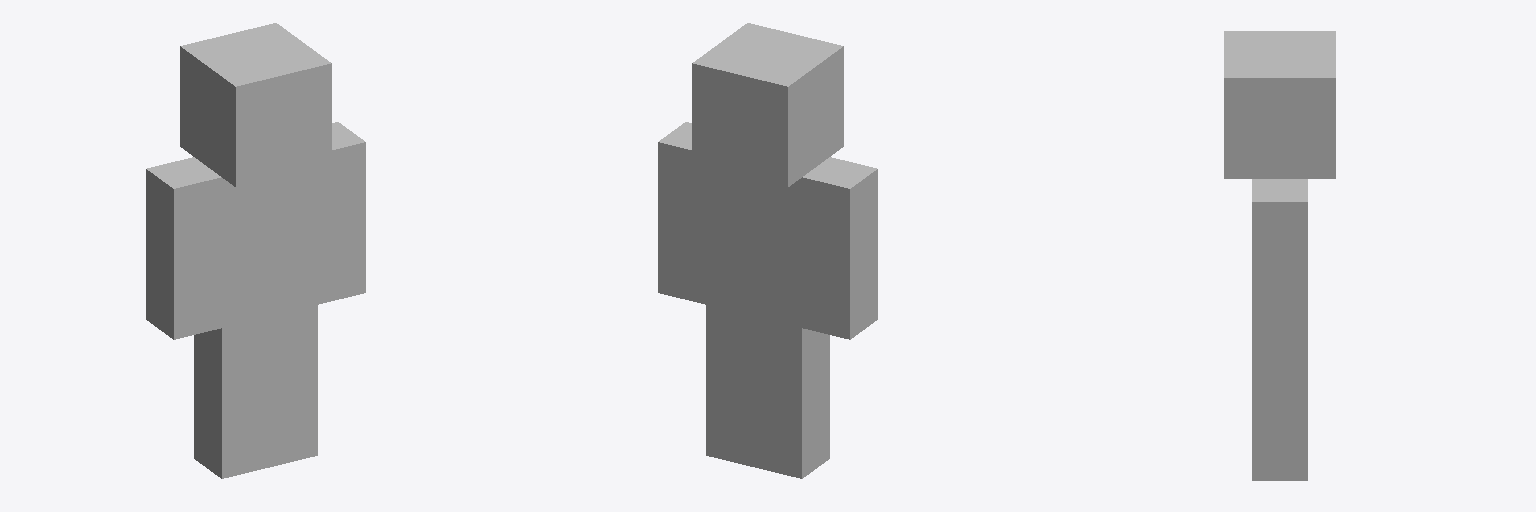
The model's file is playerPed.obj.
3 views of the same model, side by side, from view 1: azimuth 30°, elevation 25°; view 2: azimuth 150°, elevation 25°; view 3: azimuth 270°, elevation 25° (orthographic).
Visible parts, largest first — view 1: Cube_Cube.003; view 2: Cube_Cube.003; view 3: Cube_Cube.003.
Boxes of the visible parts, <box> form: Cube_Cube.003: <box>146,23,365,478</box>; Cube_Cube.003: <box>658,23,877,478</box>; Cube_Cube.003: <box>1224,31,1335,480</box>.
Size of the model in its own units: 1 by 2 by 0.5.